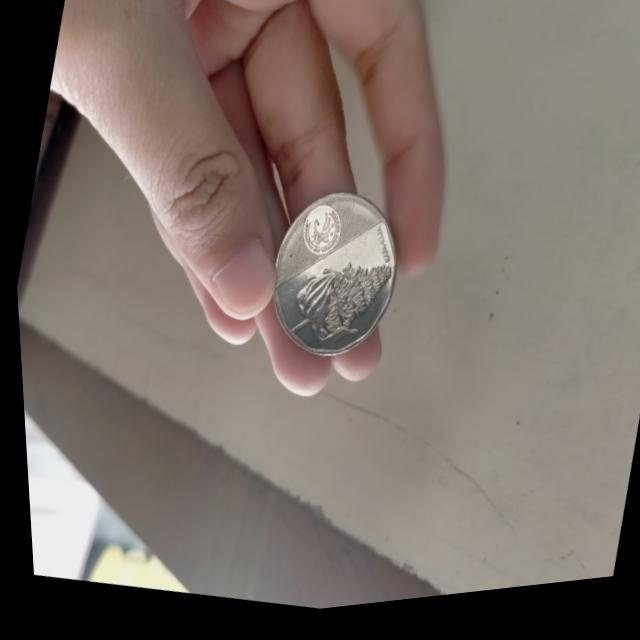10_New_Back: (262, 232, 403, 378)
